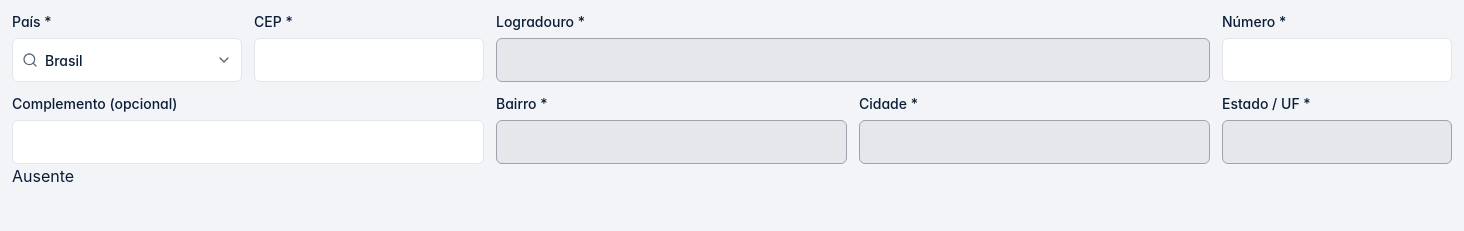
Test: formata CEP e completa endereço fictício sem substituir número manual
Type "01001000" into the field labelled "CEP *" at (369, 60), box [254,38,484,82]
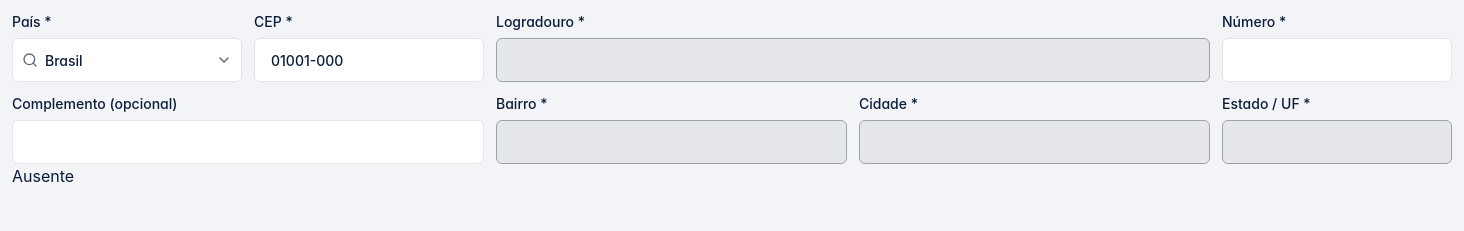
Expected: the field labelled "CEP *" holds "01001-000", [254,38,484,82]
Type "10" into the field labelled "Número *" at (1337, 60), box [1222,38,1452,82]
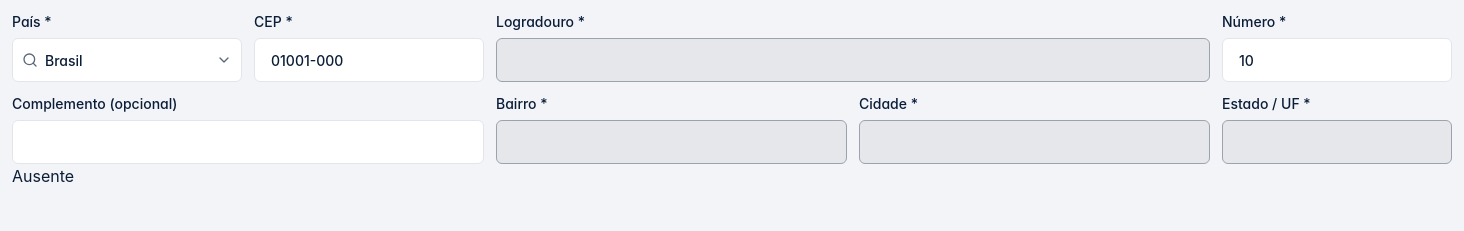
Leave the field labelled "CEP *", box [254,38,484,82]
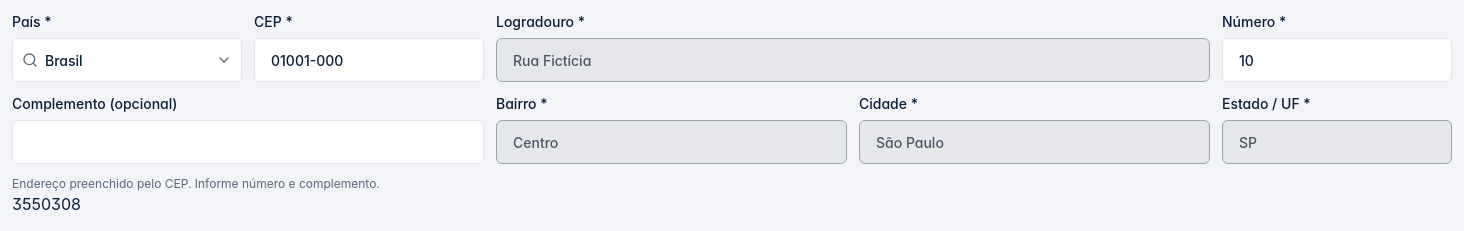
Expected: the field labelled "Logradouro *" holds "Rua Fictícia", [496,38,1210,82]
Expected: the text named "IBGE preservado no rascunho" reads "3550308", [12,194,81,214]
